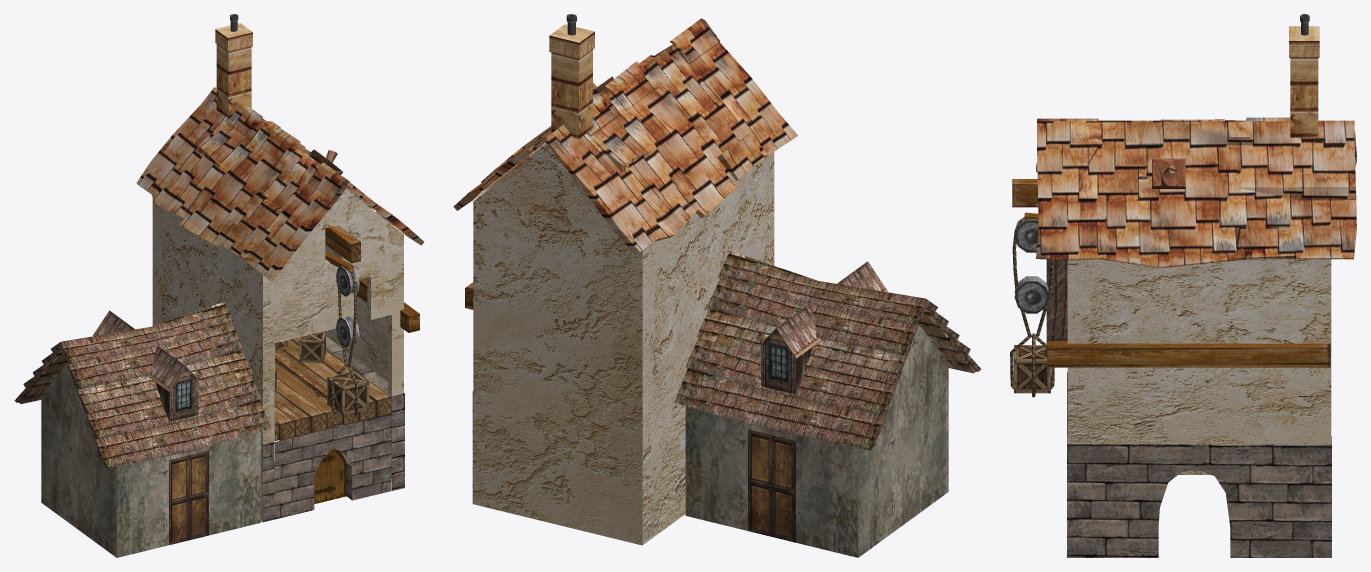
Rendered from building4.FBX.
3 views of the same model, side by side, from view 1: azimuth 30°, elevation 25°; view 2: azimuth 150°, elevation 25°; view 3: azimuth 270°, elevation 25° (orthographic). The views are drawn at different scales.
Visible parts, largest first — view 1: Rectangle013, Object001; view 2: Rectangle013, Object001; view 3: Rectangle013, Object001.
Boxes of the visible parts, <box> form: Rectangle013: <box>136,14,423,522</box>; Object001: <box>14,302,270,557</box>; Rectangle013: <box>453,14,798,545</box>; Object001: <box>674,251,981,557</box>; Rectangle013: <box>1010,14,1356,557</box>; Object001: <box>1046,259,1067,344</box>.
Bounding box in the file's own units: 315 × 395 × 248.
